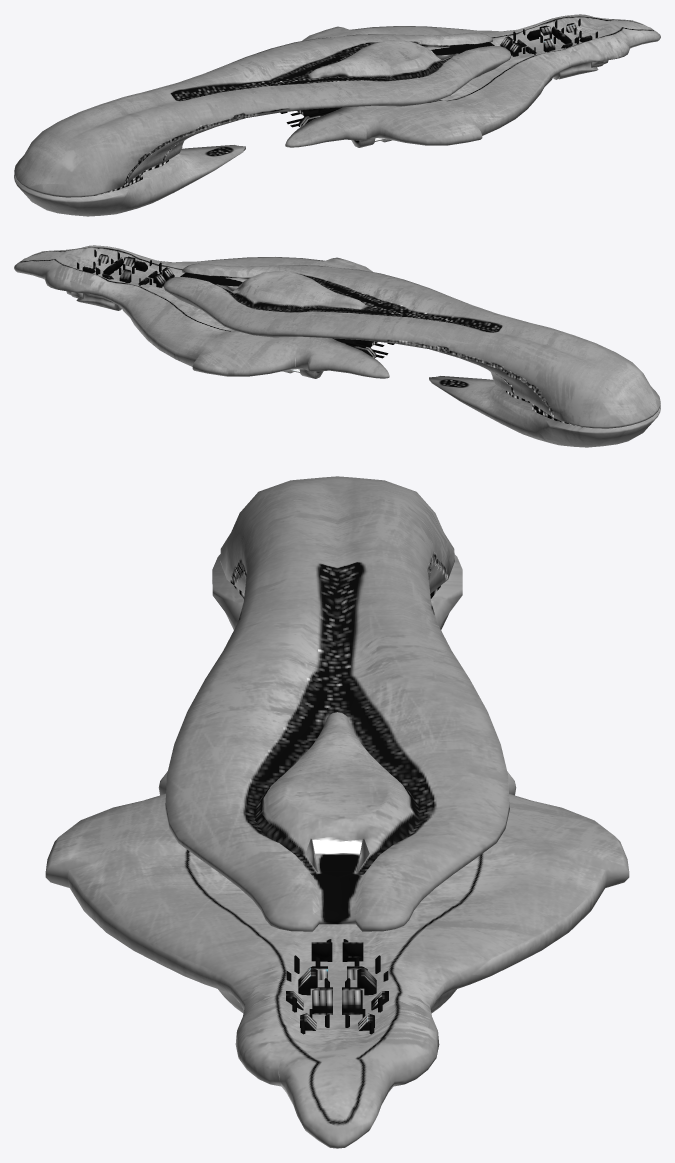
3 renders of one model, top to bottom at view 1: azimuth 30°, elevation 25°; view 2: azimuth 150°, elevation 25°; view 3: azimuth 270°, elevation 25°, orthographic. The views are drawn at different scales.
Visible parts, largest first — view 1: cas_carrier; view 2: cas_carrier; view 3: cas_carrier.
Boxes of the visible parts, left/top/right/bottom form: cas_carrier: left=14, top=14, right=660, bottom=216; cas_carrier: left=14, top=245, right=660, bottom=447; cas_carrier: left=45, top=476, right=629, bottom=1148.
Bounding box in the file's own units: 2109 × 294 × 835.
3 materials, 3 textured.
